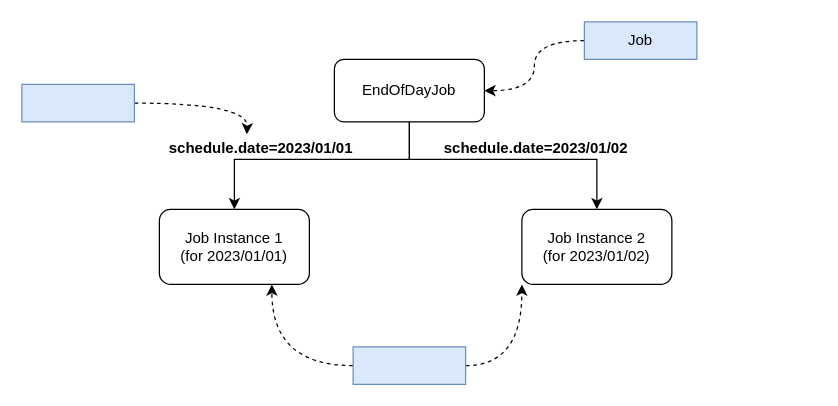
Image size: 838x406. Some labels were removed from this diagram. Here are the shapes that lost their labels. From the top down, the box of each, then its label:
(21, 83, 134, 122): Job parameter
(352, 346, 466, 384): Job instances
